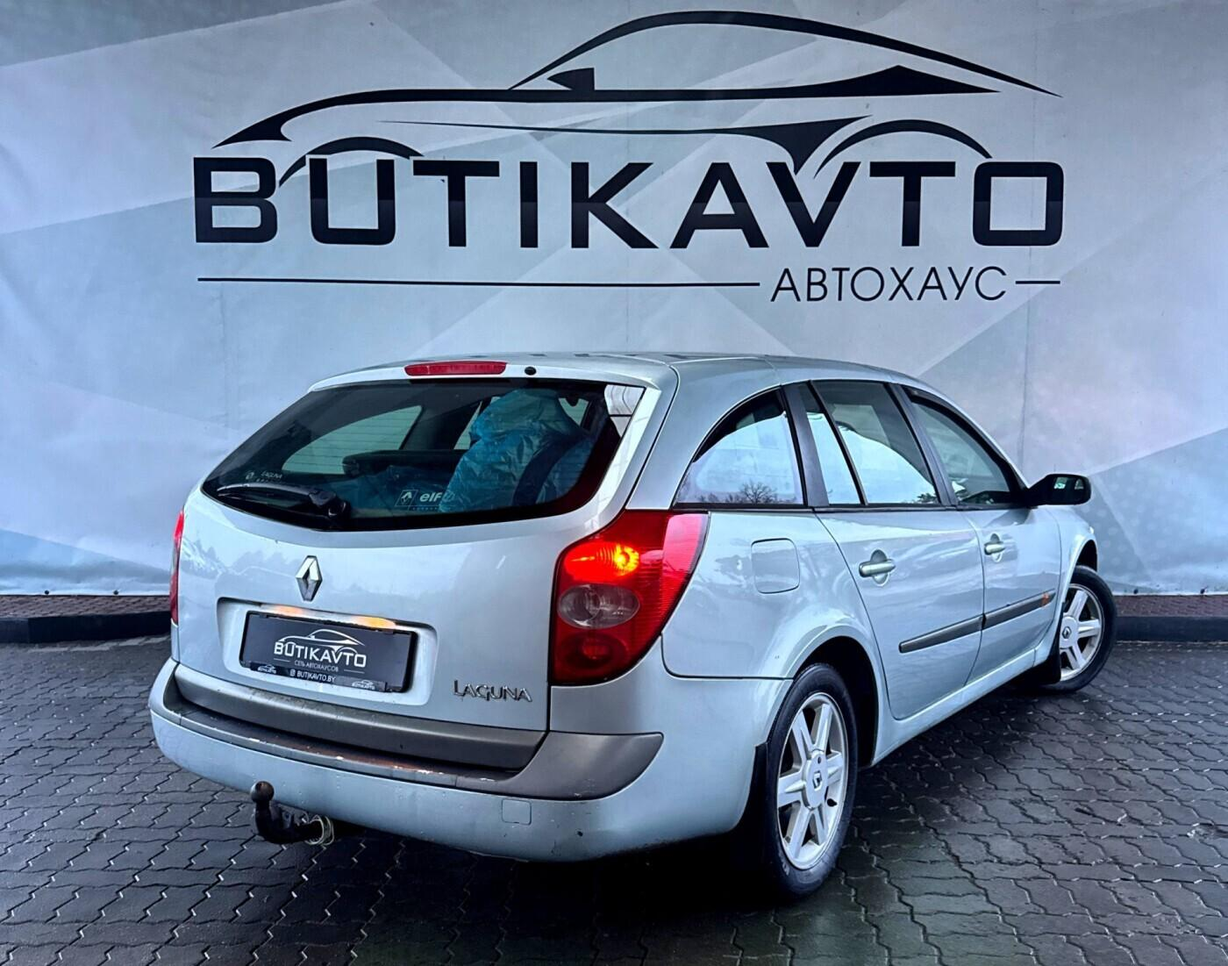Laguna_2001-2005: (150, 353, 1114, 894)
